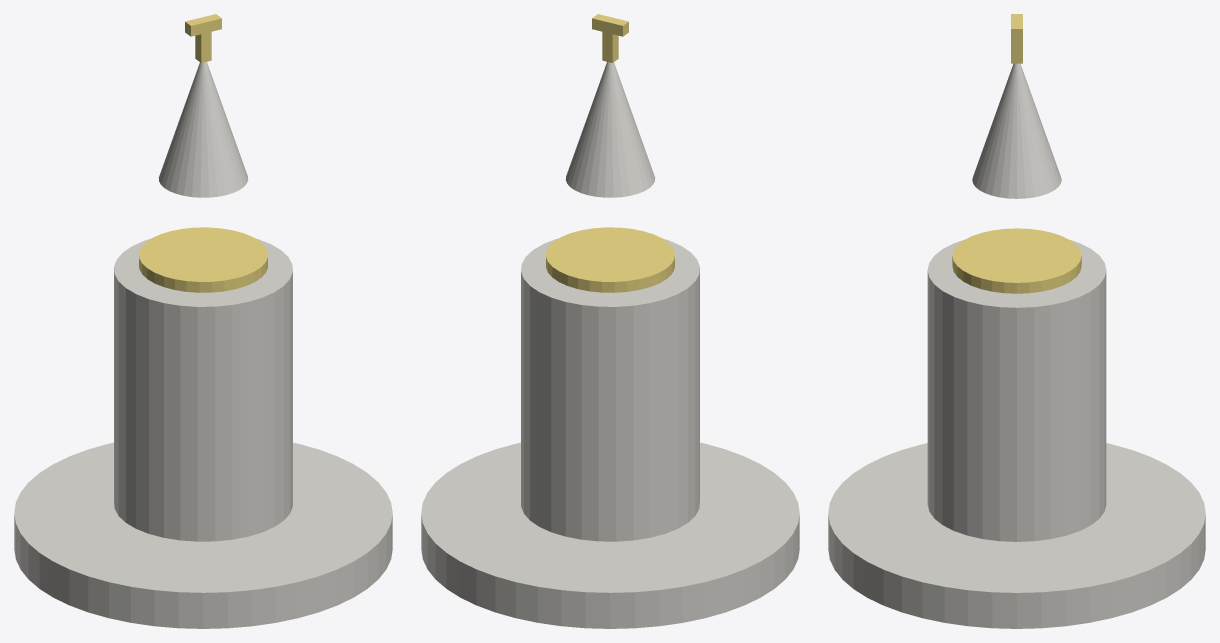
The picture shows the model from 3 angles, left to right: view 1: azimuth 30°, elevation 25°; view 2: azimuth 150°, elevation 25°; view 3: azimuth 270°, elevation 25°; orthographic projection.
Parts seen in each view (by area): view 1: bishop_base; view 2: bishop_base; view 3: bishop_base.
Boxes of the visible parts, bbox=[...] form: bishop_base: bbox=[14, 14, 392, 628]; bishop_base: bbox=[421, 14, 799, 628]; bishop_base: bbox=[828, 14, 1205, 628].
Size of the model in its own units: 0.38 by 0.586 by 0.38.
